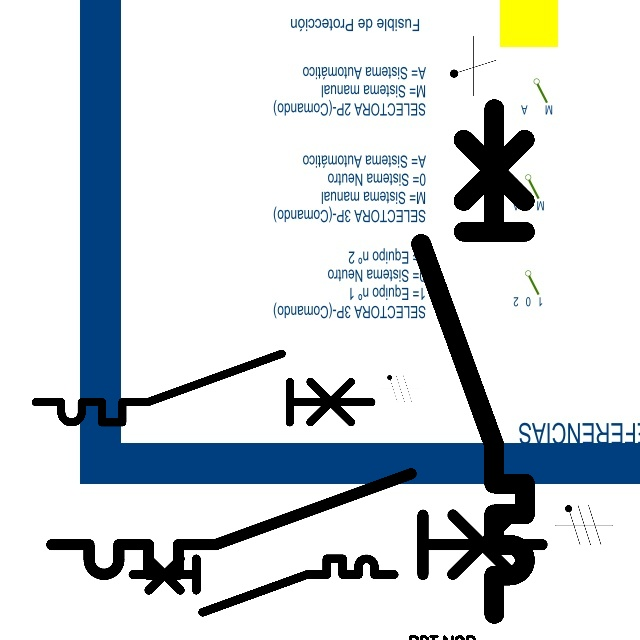interruptor_termomagnetico: (408, 96, 538, 627), (39, 461, 554, 587), (27, 345, 380, 431), (126, 552, 401, 619)
